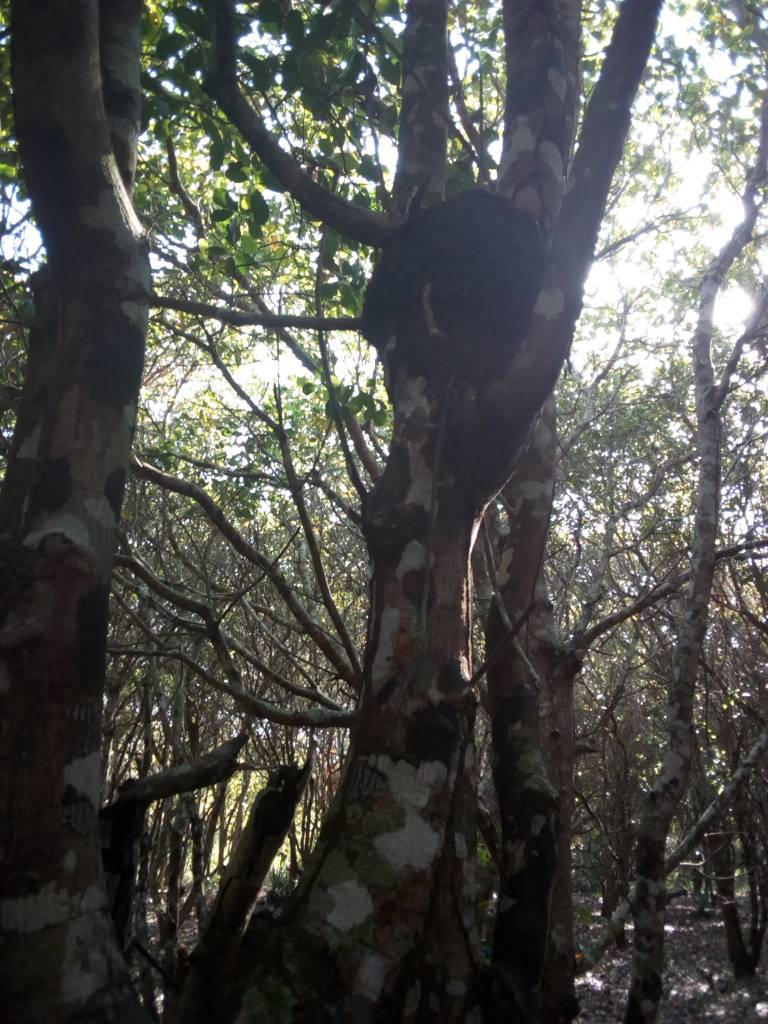Termites: (360, 189, 544, 364)
